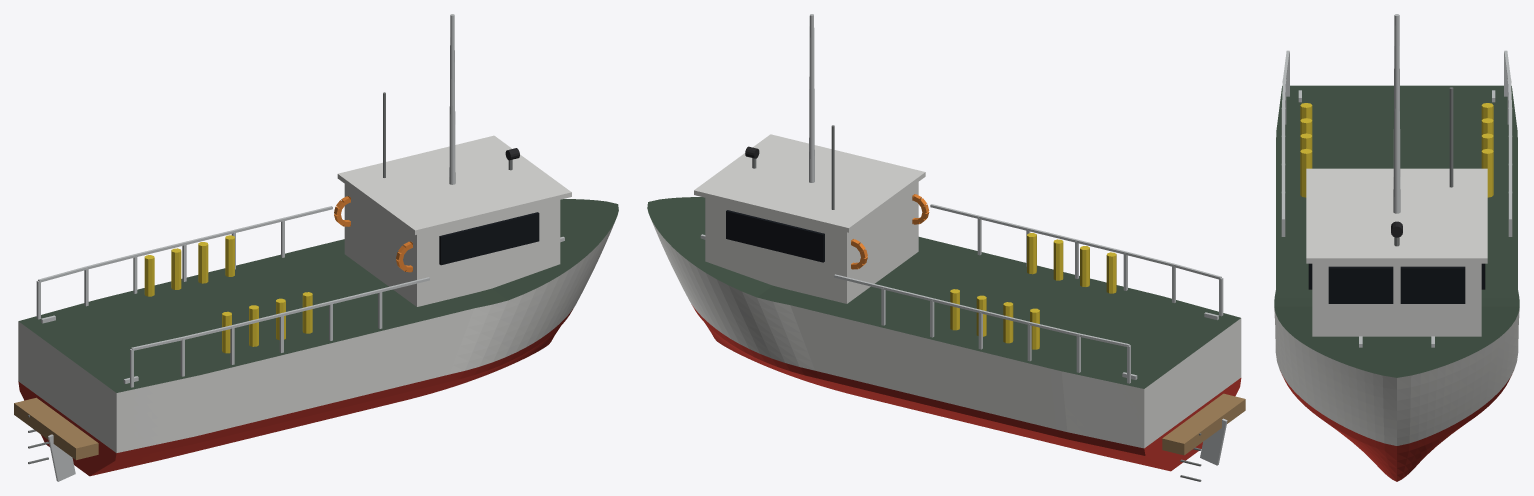
The model's file is dive12.glb.
3 views of the same model, side by side, from view 1: azimuth 30°, elevation 25°; view 2: azimuth 150°, elevation 25°; view 3: azimuth 270°, elevation 25° (orthographic). The views are drawn at different scales.
Parts seen in each view (by area): view 1: dive12; view 2: dive12; view 3: dive12.
Boxes of the visible parts, x1,y1,x2,y2 form: dive12: (14,14,618,481); dive12: (647,14,1245,481); dive12: (1274,14,1519,481).
Size of the model in its own units: 12.9 by 7.74 by 4.06.
